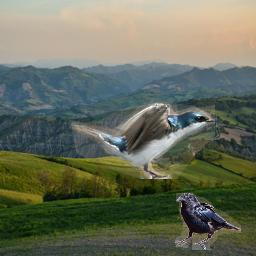Crow: (175, 193, 241, 250)
Swallow: (69, 101, 215, 179)
